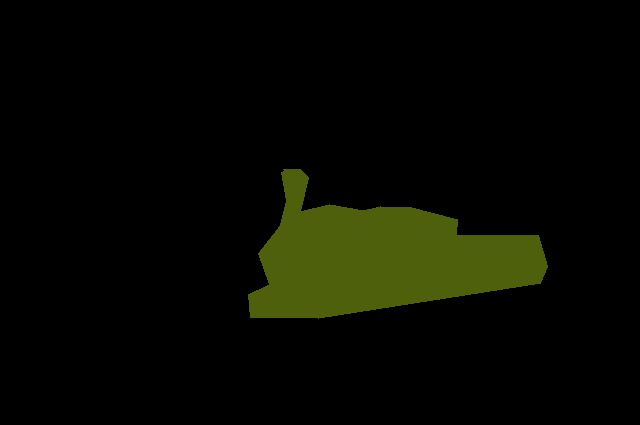Train: (248, 169, 547, 318)
